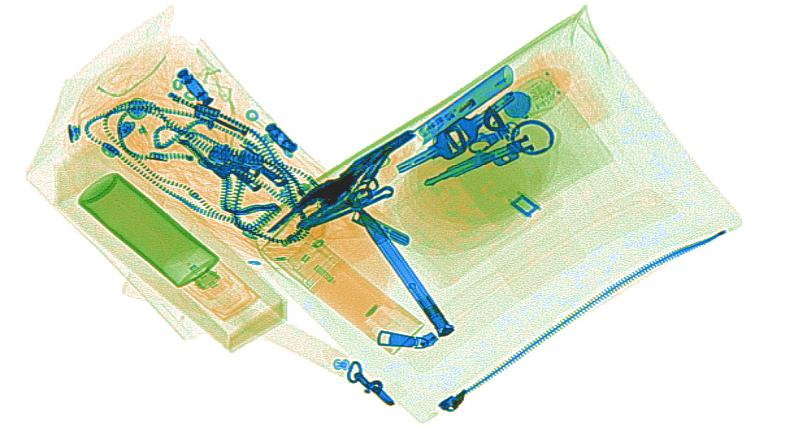lighter: (416, 62, 514, 145)
plasticBottleWithaNozzle: (259, 220, 427, 356)
